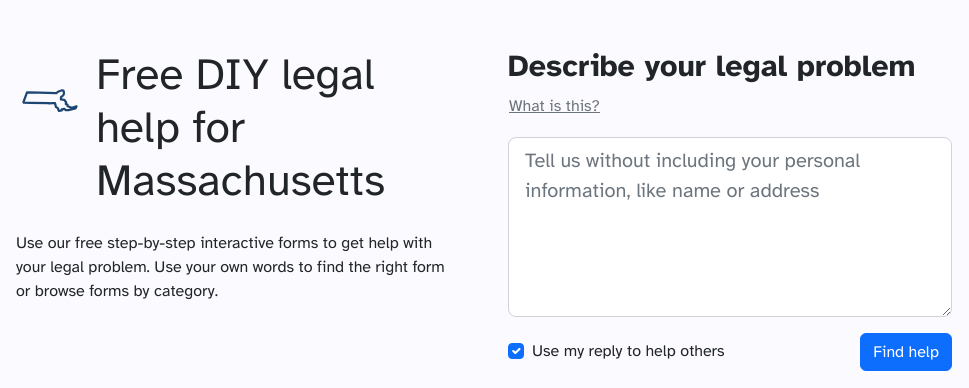
Test: HeroSection SPOT modal › renders the small "what is this?" link and opens popover with explanation and privacy policy link
Note: Click to show the popover with SPOT explanation
Click the button "What is this?" at (554,106), box [508,92,601,118]
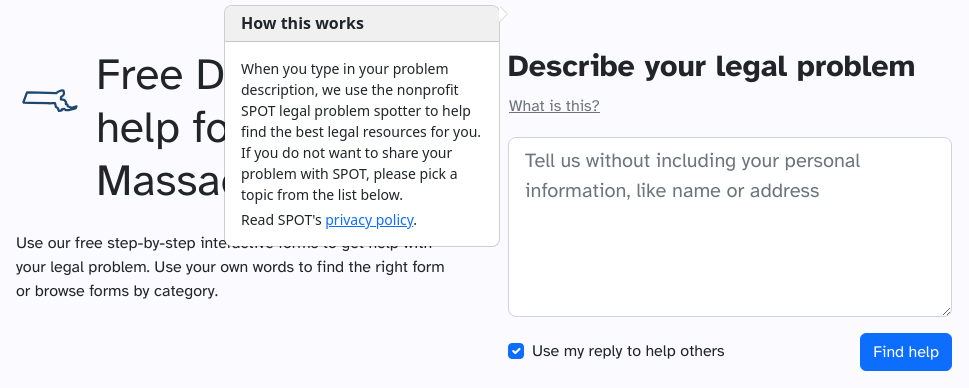
Expected: the text "When you type in your problem description" is shown, [241,59,481,204]
Expected: the link "privacy policy" is shown, [325,210,413,229]
Click the button "What is this?" at (554,106), box [508,92,601,118]
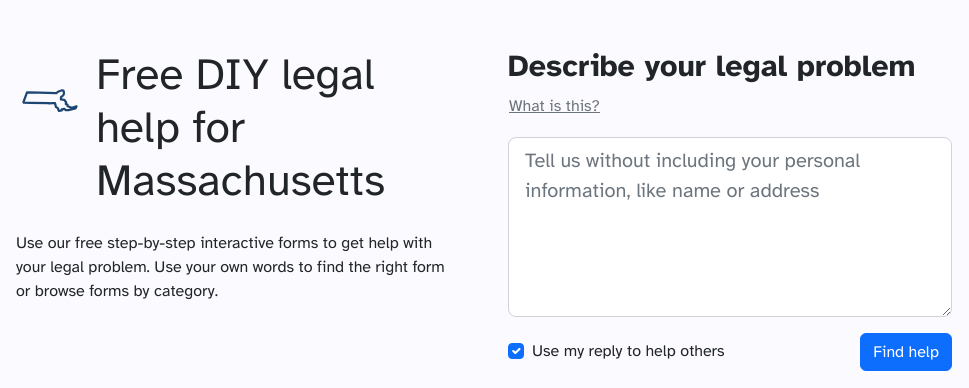
Expected: the text "When you type in your problem description" is gone
